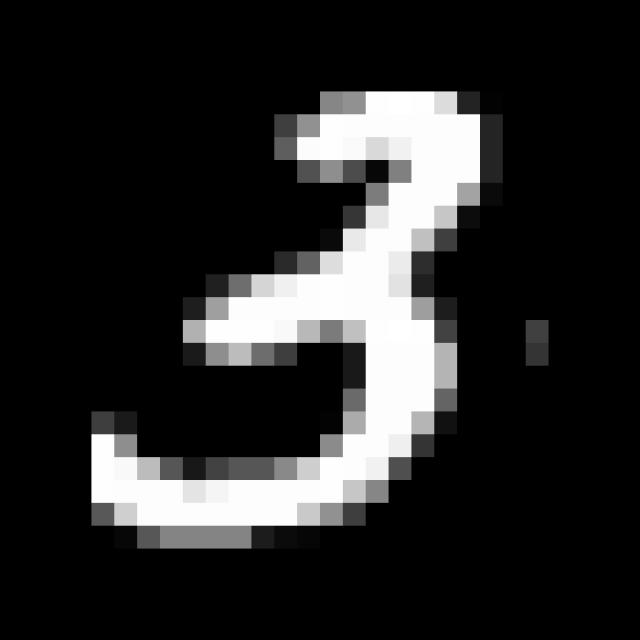three -3-: (80, 84, 504, 544)
